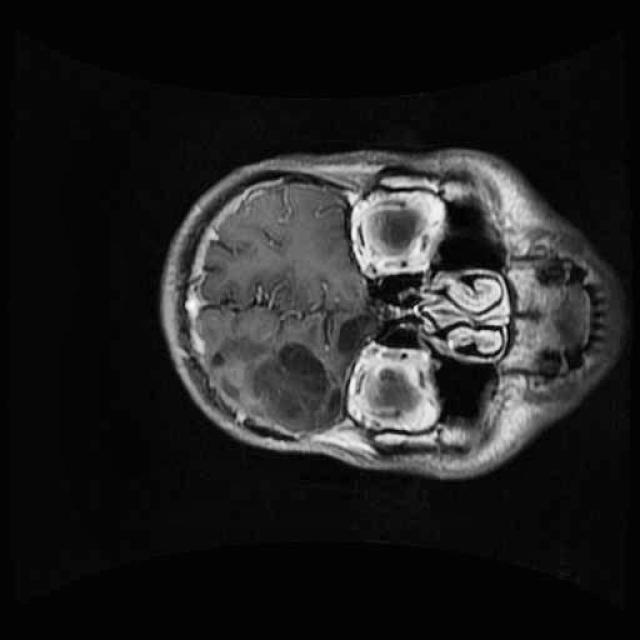Non-Tumor: (239, 330, 341, 449)
